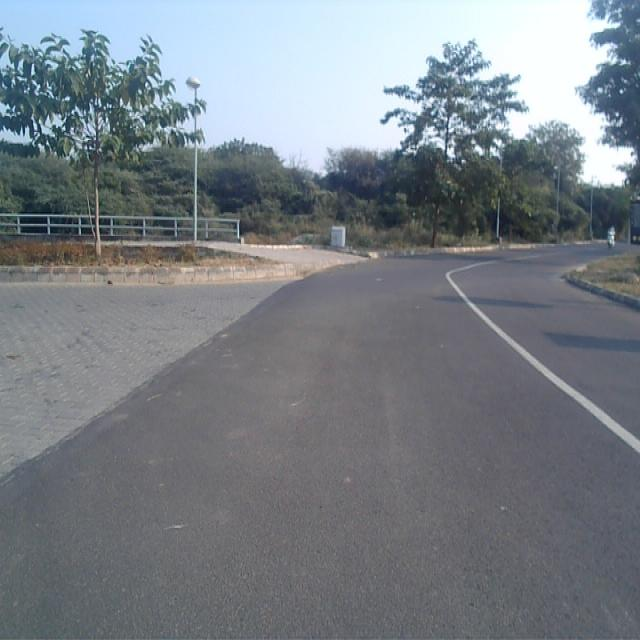lane: (0, 255, 640, 640)
